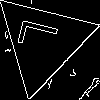L: (17, 17, 68, 55)
